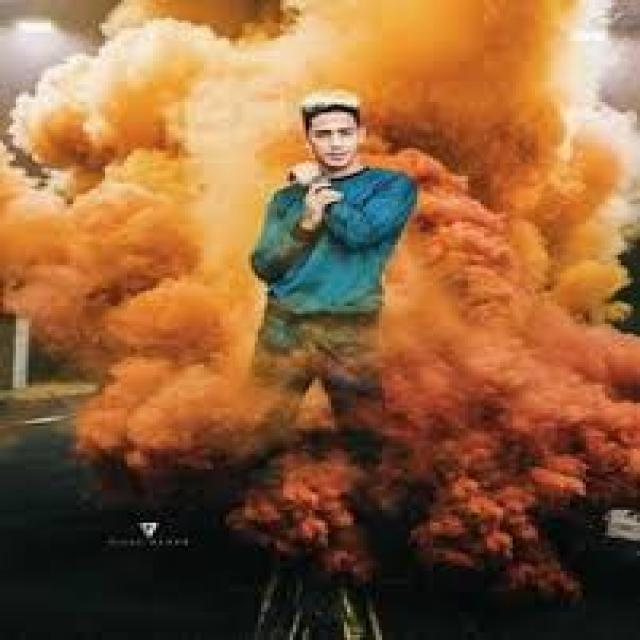Edited images: (240, 78, 459, 494)
